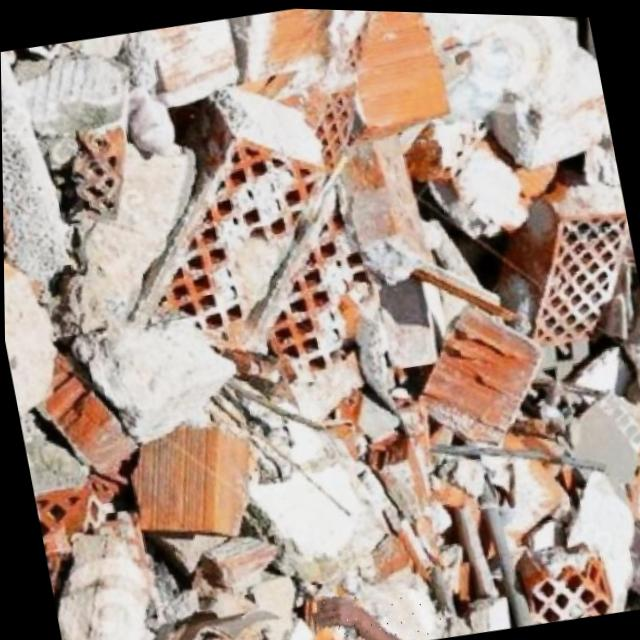Person in Rubble: (307, 579, 445, 640)
